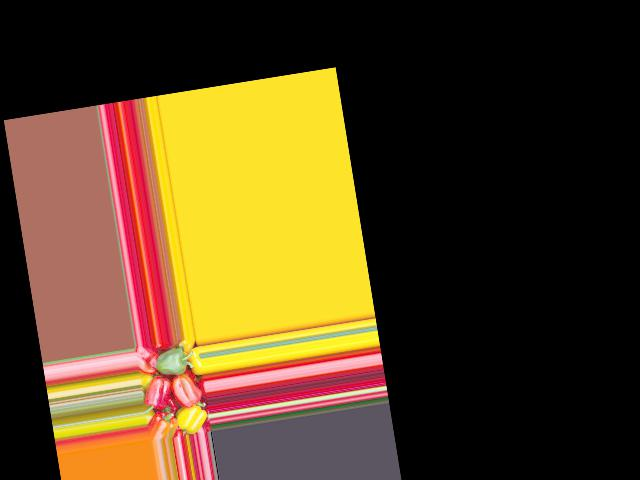bell_pepper: (172, 401, 211, 436)
